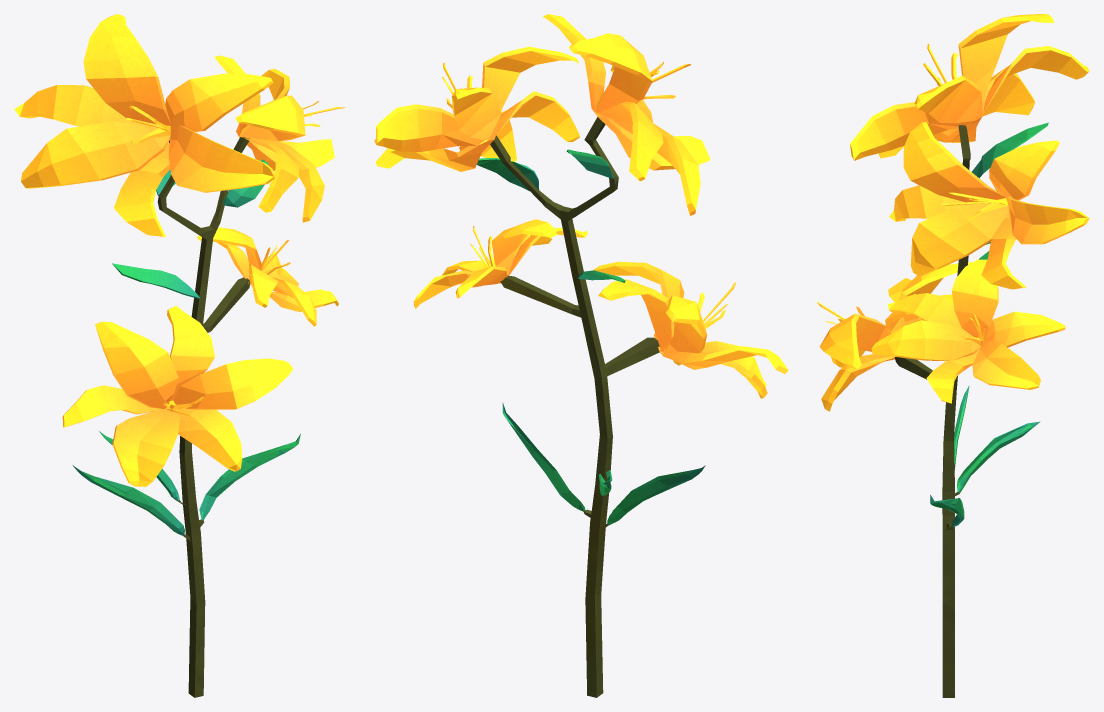
File: CheckPoint.glb
3 views of the same model, side by side, from view 1: azimuth 30°, elevation 25°; view 2: azimuth 150°, elevation 25°; view 3: azimuth 270°, elevation 25° (orthographic). The views are drawn at different scales.
Parts seen in each view (by area): view 1: Petal, Stem; view 2: Petal, Stem; view 3: Petal, Stem.
Part boxes in pixels (<box>): Petal: <box>14,14,345,486</box>; Stem: <box>72,137,300,697</box>; Petal: <box>374,14,788,398</box>; Stem: <box>477,117,705,697</box>; Petal: <box>817,14,1089,411</box>; Stem: <box>894,122,1048,697</box>.
Bounding box in the file's own units: 6.62 × 12.65 × 4.72.
3 materials, 3 textured.
